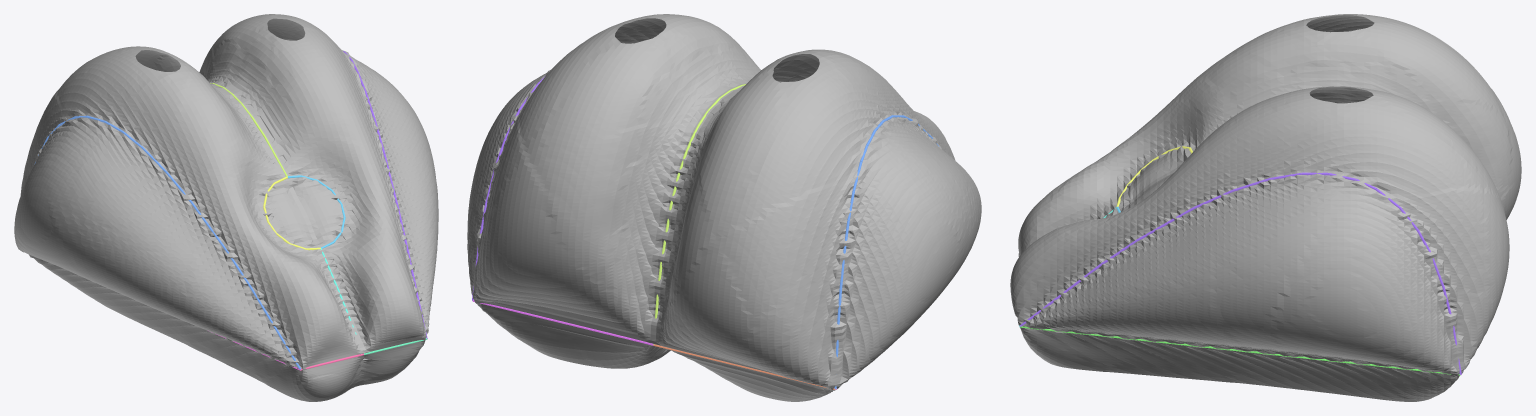
Rendered from onshape_simple_mouse.gltf.
The picture shows the model from 3 angles, left to right: view 1: azimuth 30°, elevation 25°; view 2: azimuth 150°, elevation 25°; view 3: azimuth 270°, elevation 25°; orthographic projection. The views are drawn at different scales.
Size of the model in its own units: 0.7828 by 0.4934 by 0.8194.
